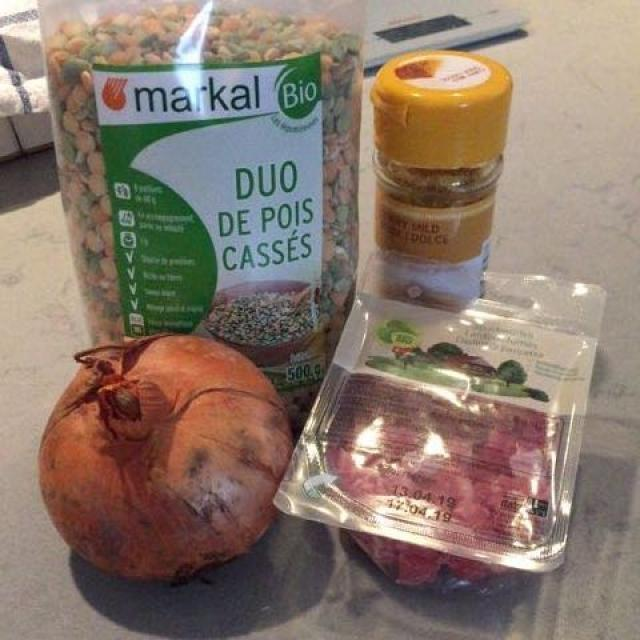onion: (28, 334, 299, 584)
